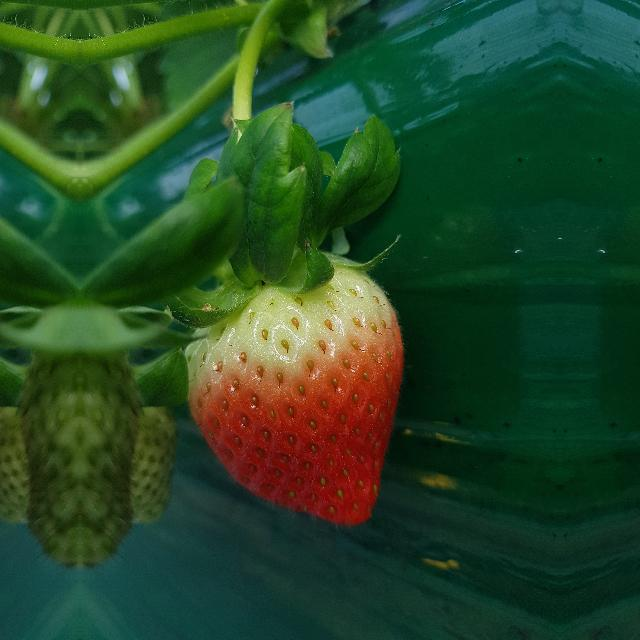Health_75: (183, 260, 404, 528)
